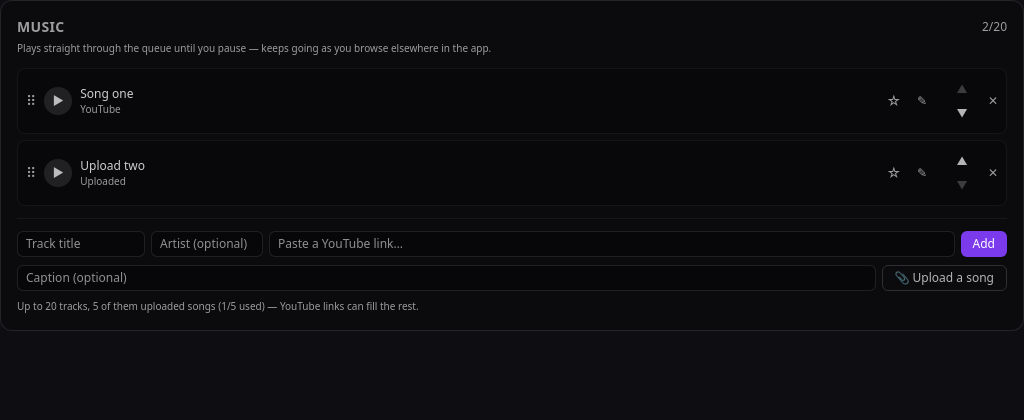
Test case: MusicPlayer › adds a YouTube track, using a default title if none is typed
Type " https://youtu.be/dQw4w9WgXcQ " into the field with placeholder "Paste a YouTube link…" at (612, 244), box left=269, top=231, right=955, bottom=257
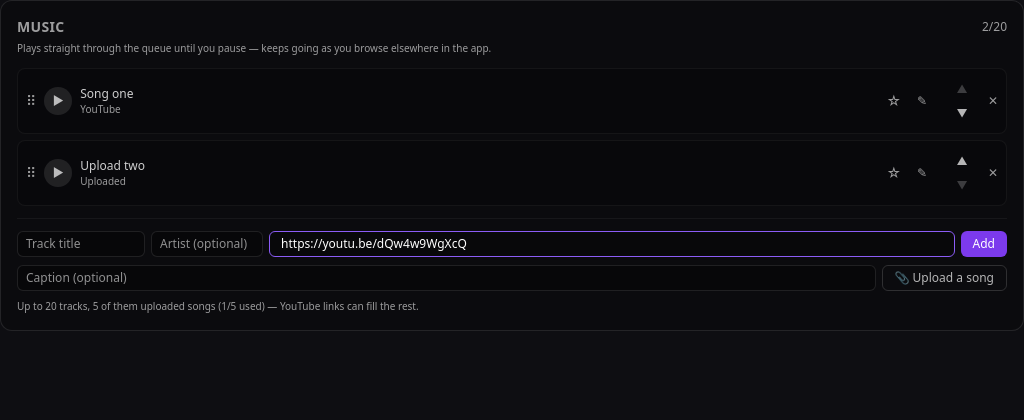
Click the button "Add" at (984, 244), box left=961, top=231, right=1007, bottom=257
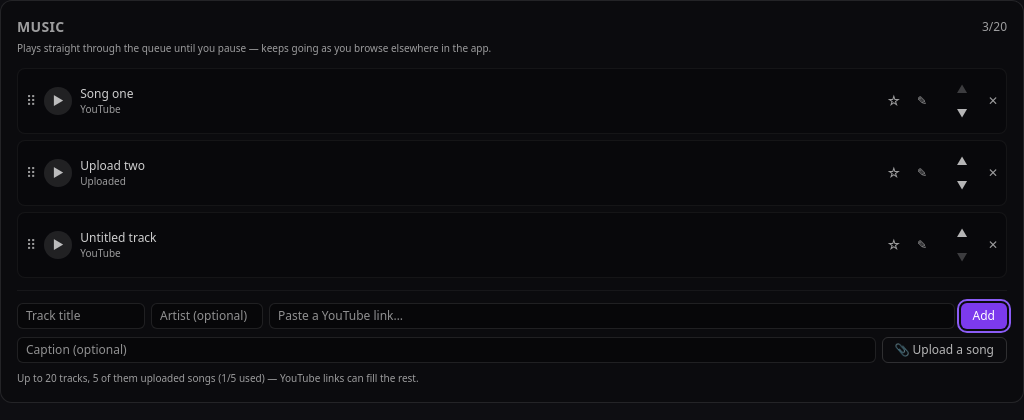
Now the text "Untitled track" is shown, box left=80, top=228, right=157, bottom=246
Now the field with placeholder "Paste a YouTube link…" is empty, box left=269, top=303, right=955, bottom=329
